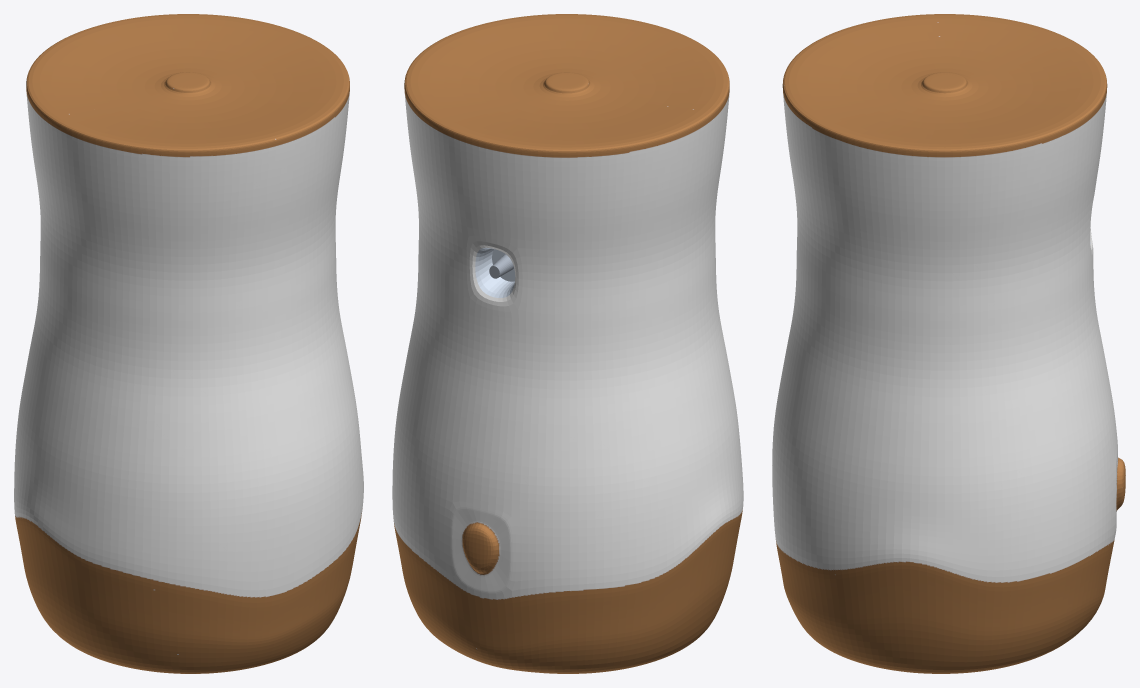
File: glade.obj
3 views of the same model, side by side, from view 1: azimuth 30°, elevation 25°; view 2: azimuth 150°, elevation 25°; view 3: azimuth 270°, elevation 25° (orthographic).
Visible parts, largest first — view 1: Cylinder; view 2: Cylinder; view 3: Cylinder.
Part boxes in pixels (bbox=[...]): Cylinder: bbox=[14, 14, 363, 673]; Cylinder: bbox=[392, 14, 743, 673]; Cylinder: bbox=[772, 14, 1125, 673].
Bounding box in the file's own units: 3.75 × 6.25 × 3.72.
